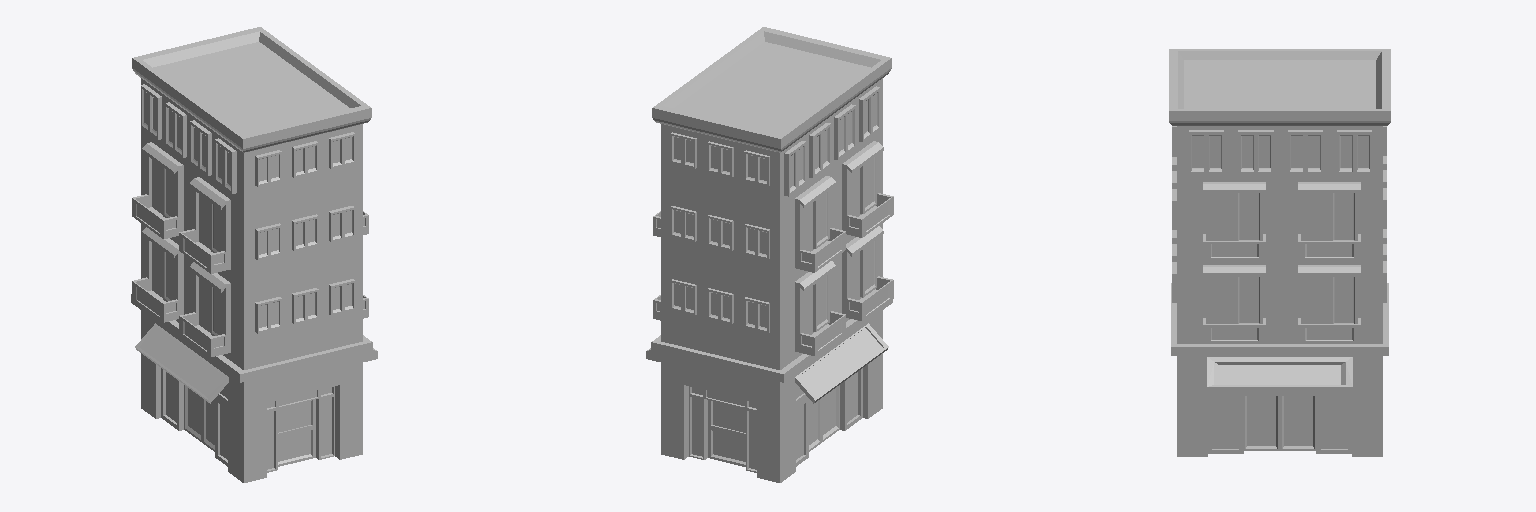
Rendered from Building2.obj.
3 views of the same model, side by side, from view 1: azimuth 30°, elevation 25°; view 2: azimuth 150°, elevation 25°; view 3: azimuth 270°, elevation 25° (orthographic).
Visible parts, largest first — view 1: Cube.020_Cube.021; view 2: Cube.020_Cube.021; view 3: Cube.020_Cube.021.
Part boxes in pixels (x1,y1,x2,y2): Cube.020_Cube.021: (131, 27, 377, 482); Cube.020_Cube.021: (646, 27, 893, 482); Cube.020_Cube.021: (1169, 49, 1390, 456).
Size of the model in its own units: 1.83 by 3.57 by 2.06.